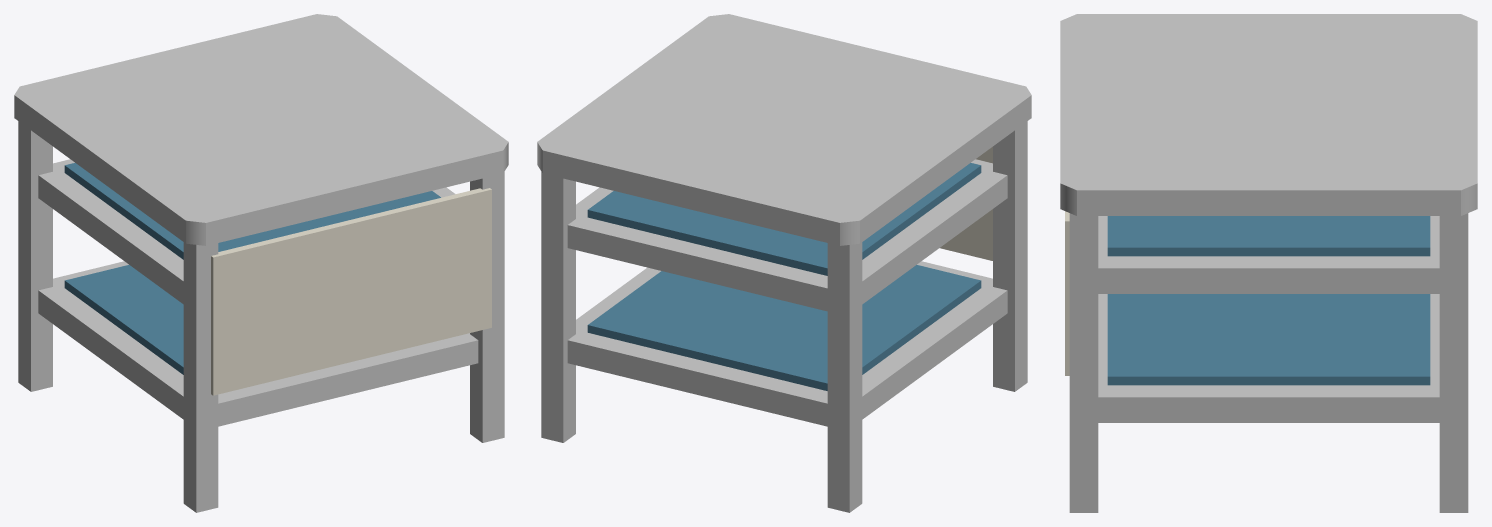
Rendered from passive_cooler.obj.
3 views of the same model, side by side, from view 1: azimuth 30°, elevation 25°; view 2: azimuth 150°, elevation 25°; view 3: azimuth 270°, elevation 25° (orthographic). The views are drawn at different scales.
Visible parts, largest first — view 1: top_cover, cooling_fabric, lower_tray, support_1, support_2, upper_tray, lower_water, support_3, upper_water; view 2: top_cover, lower_water, lower_tray, upper_tray, upper_water, support_2, support_4, support_1, cooling_fabric; view 3: top_cover, lower_water, lower_tray, upper_tray, upper_water, support_3, support_4, cooling_fabric.
Part boxes in pixels (x1,y1,x2,y2): top_cover: (14, 14, 508, 245); cooling_fabric: (211, 188, 491, 395); lower_tray: (38, 261, 478, 426); support_1: (183, 242, 218, 512); support_2: (18, 121, 52, 391); upper_tray: (38, 159, 455, 304); lower_water: (64, 265, 183, 374); support_3: (470, 172, 504, 442); upper_water: (64, 163, 440, 259); top_cover: (537, 14, 1031, 245); lower_water: (587, 265, 981, 390); lower_tray: (567, 261, 1007, 426); upper_tray: (567, 159, 1007, 311); upper_water: (587, 163, 981, 275); support_2: (827, 242, 862, 512); support_4: (541, 172, 575, 442); support_1: (993, 121, 1027, 391); cooling_fabric: (940, 146, 992, 260); top_cover: (1060, 14, 1477, 215); lower_water: (1107, 294, 1430, 385); lower_tray: (1098, 294, 1439, 422); upper_tray: (1098, 216, 1439, 293); upper_water: (1107, 216, 1430, 256); support_3: (1069, 213, 1098, 512); support_4: (1439, 213, 1468, 512); cooling_fabric: (1065, 211, 1069, 375).
Bounding box in the file's own units: 0.88 × 0.76 × 0.88.
